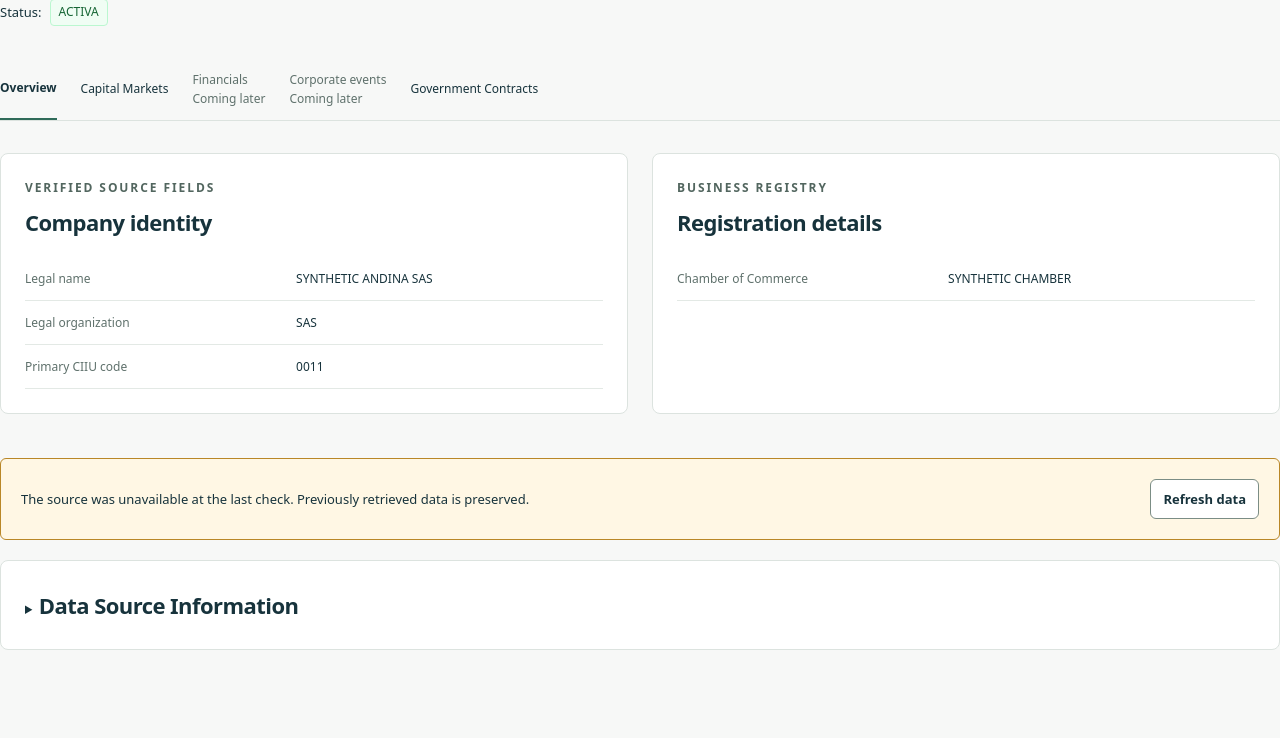
legacy Sources URL shows the combined Overview card, source availability and review flags
The width and height of the screenshot is (1280, 738).
(page scrolled)
Click the heading "Data Source Information" at (169, 604), box x1=39 y1=590 x2=298 y2=620
(page scrolled)
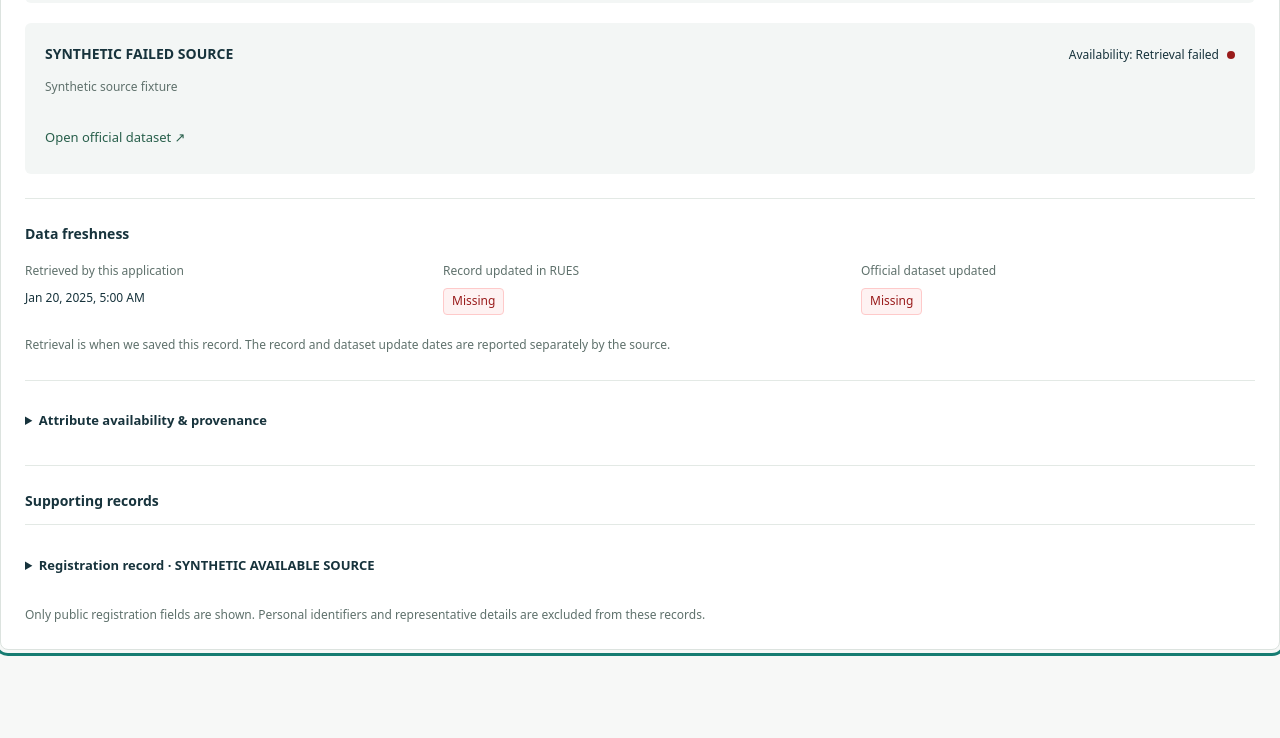
expect the element with class "availability-dot--unavailable" is shown: met, box x1=1227 y1=51 x2=1235 y2=59
Click the heading "Registration record · SYNTHETIC AVAILABLE SOURCE" at (207, 564), box x1=39 y1=556 x2=375 y2=574
(page scrolled)
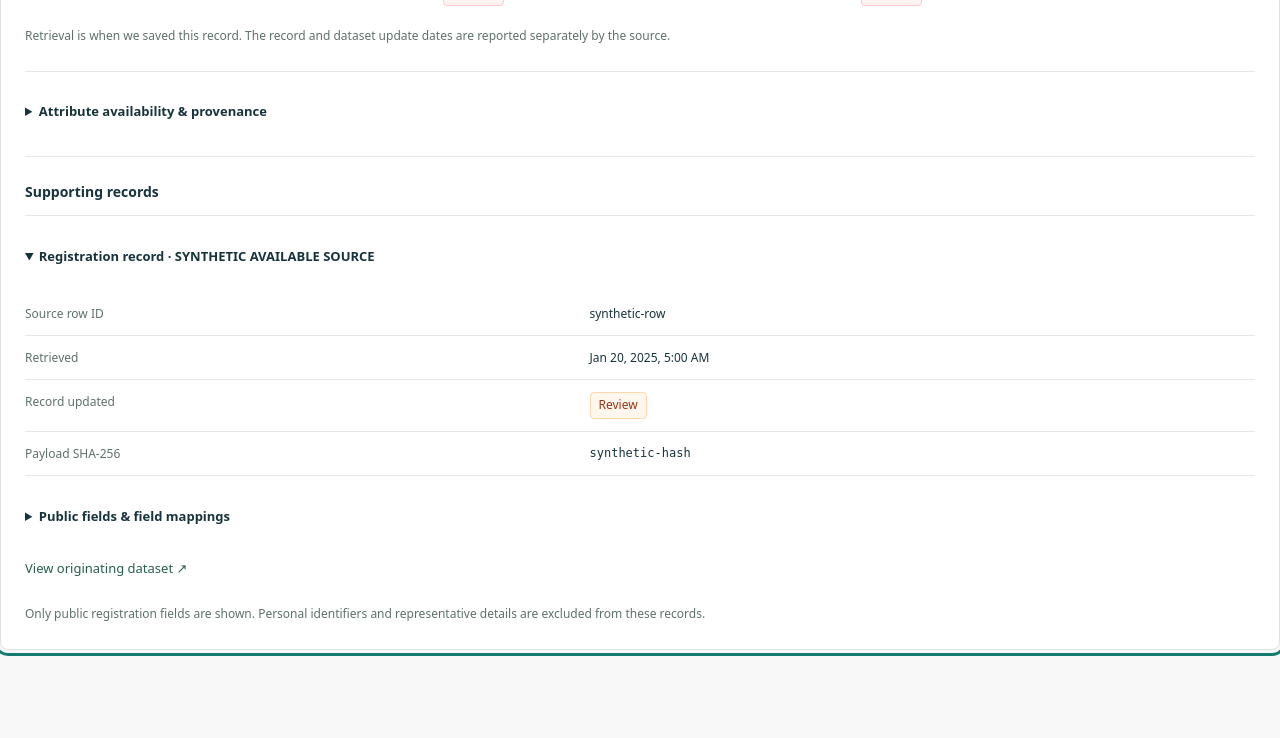
Click the heading "Public fields & field mappings" at (134, 516), box x1=39 y1=507 x2=230 y2=525
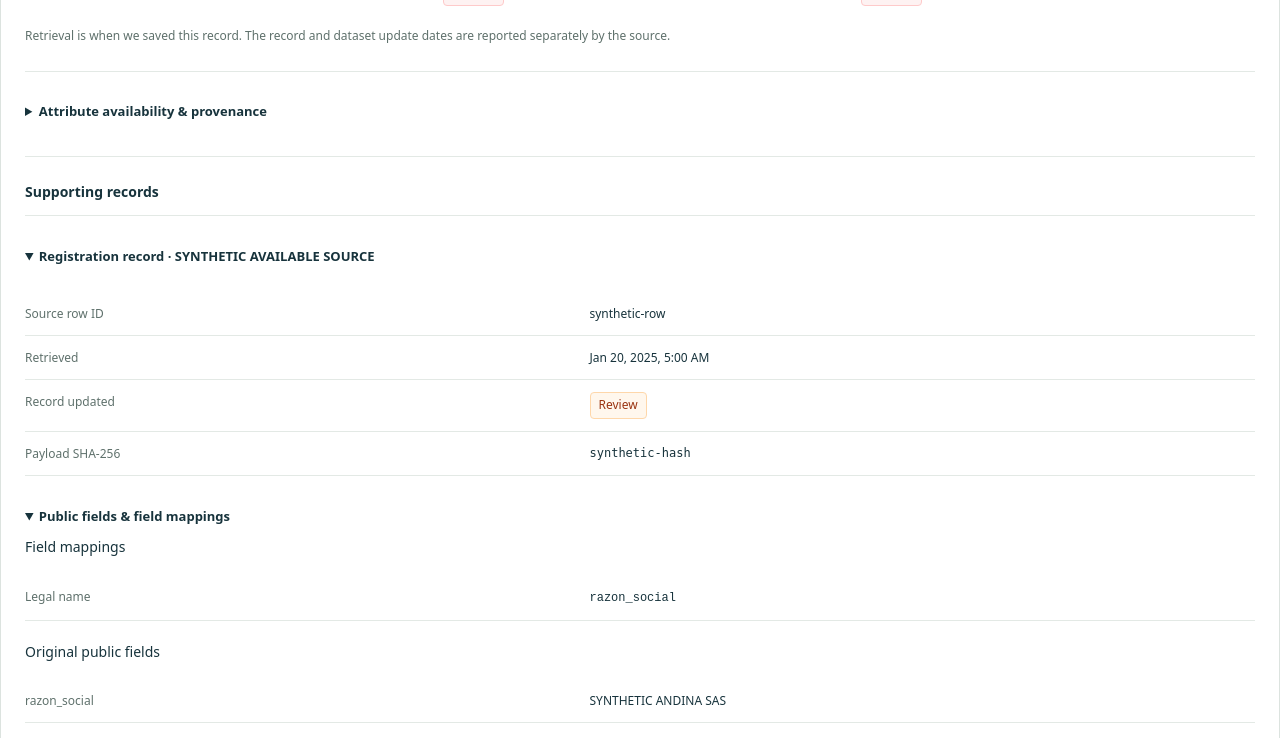
expect the text "synthetic-hash" is shown: met, box x1=590 y1=446 x2=691 y2=460
expect the heading "Field mappings" is shown: met, box x1=25 y1=537 x2=125 y2=556
expect the 1st text "razon_social" is shown: met, box x1=590 y1=591 x2=676 y2=605
